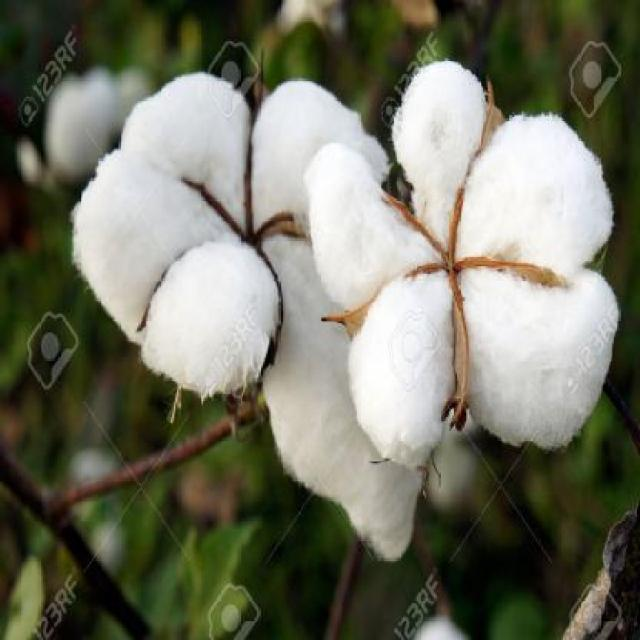cotton_ready: (328, 44, 604, 493), (84, 59, 384, 466)
